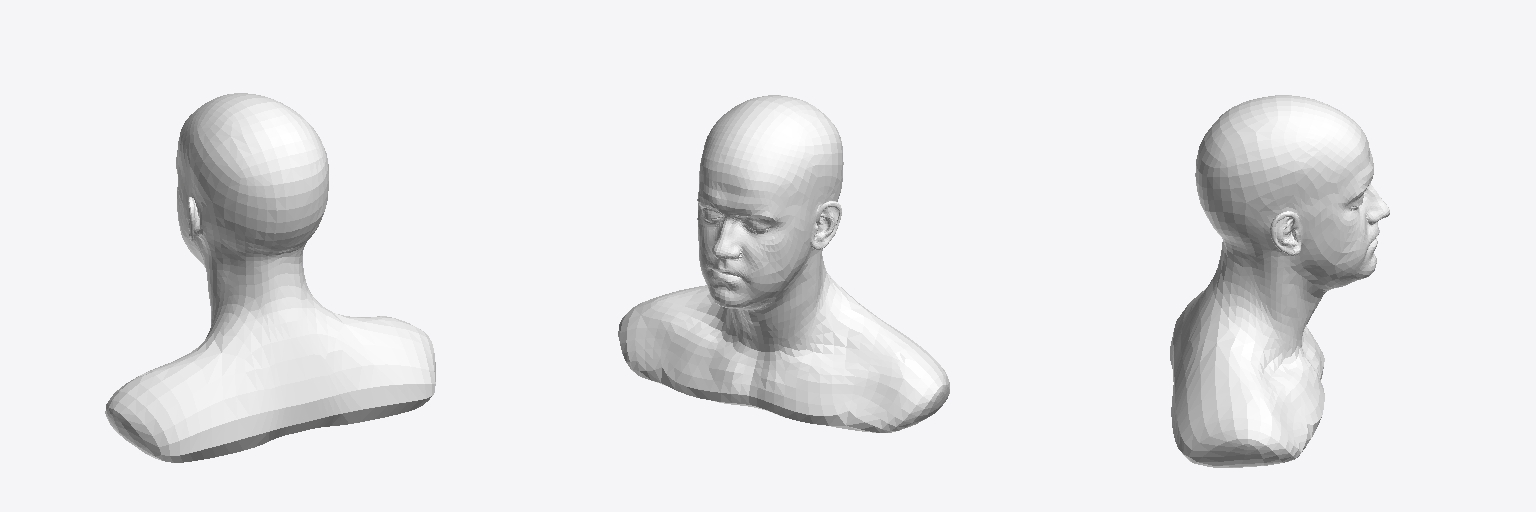
3 renders of one model, left to right at view 1: azimuth 30°, elevation 25°; view 2: azimuth 150°, elevation 25°; view 3: azimuth 270°, elevation 25°, orthographic.
Parts seen in each view (by area): view 1: test.1; view 2: test.1; view 3: test.1.
Part boxes in pixels (bbox=[...]): test.1: bbox=[105, 93, 435, 462]; test.1: bbox=[618, 95, 949, 432]; test.1: bbox=[1170, 95, 1389, 467].
Bounding box in the file's own units: 0.4533 × 0.4211 × 0.2746.